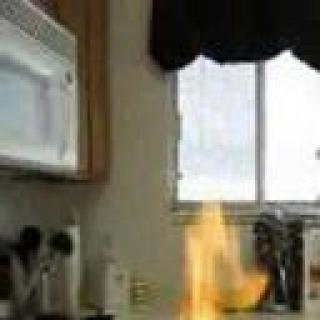fire: (133, 212, 265, 320)
